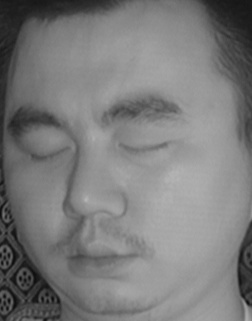blink: (113, 128, 171, 165), (22, 133, 76, 171)
mouth: (62, 230, 150, 284)
